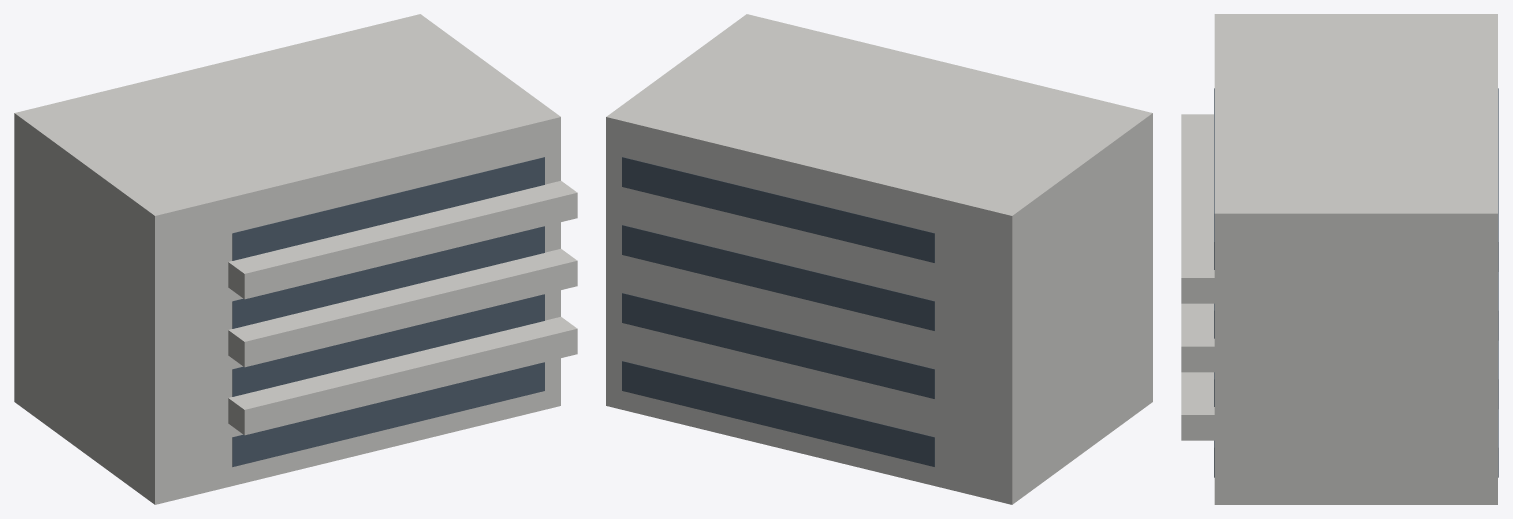
File: apartment.walls-v1.lod2.glb
3 views of the same model, side by side, from view 1: azimuth 30°, elevation 25°; view 2: azimuth 150°, elevation 25°; view 3: azimuth 270°, elevation 25° (orthographic).
Parts seen in each view (by area): view 1: apartment; view 2: apartment; view 3: apartment.
Part boxes in pixels (x1,y1,x2,y2): apartment: (14,14,577,504); apartment: (606,14,1152,504); apartment: (1181,14,1498,504).
Bounding box in the file's own units: 20 × 13.6 × 13.42.
